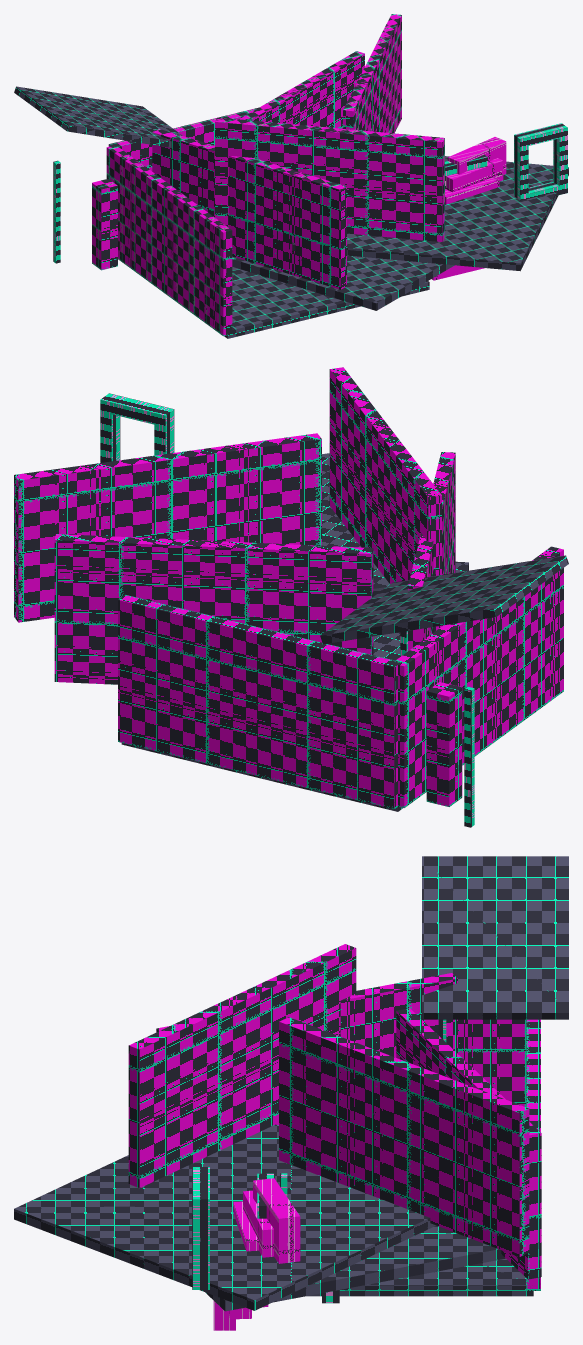
File: lm_reentrant_room.glb
3 renders of one model, top to bottom at view 1: azimuth 30°, elevation 25°; view 2: azimuth 150°, elevation 25°; view 3: azimuth 270°, elevation 25°, orthographic. The views are drawn at different scales.
Visible parts, largest first — view 1: lm_reentrant_room; view 2: lm_reentrant_room; view 3: lm_reentrant_room.
Boxes of the visible parts, <box> form: lm_reentrant_room: <box>14,14,568,338</box>; lm_reentrant_room: <box>14,367,568,827</box>; lm_reentrant_room: <box>14,856,568,1330</box>.
Bounding box in the file's own units: 24.08 × 9.28 × 18.87.
22 materials, 22 textured.
